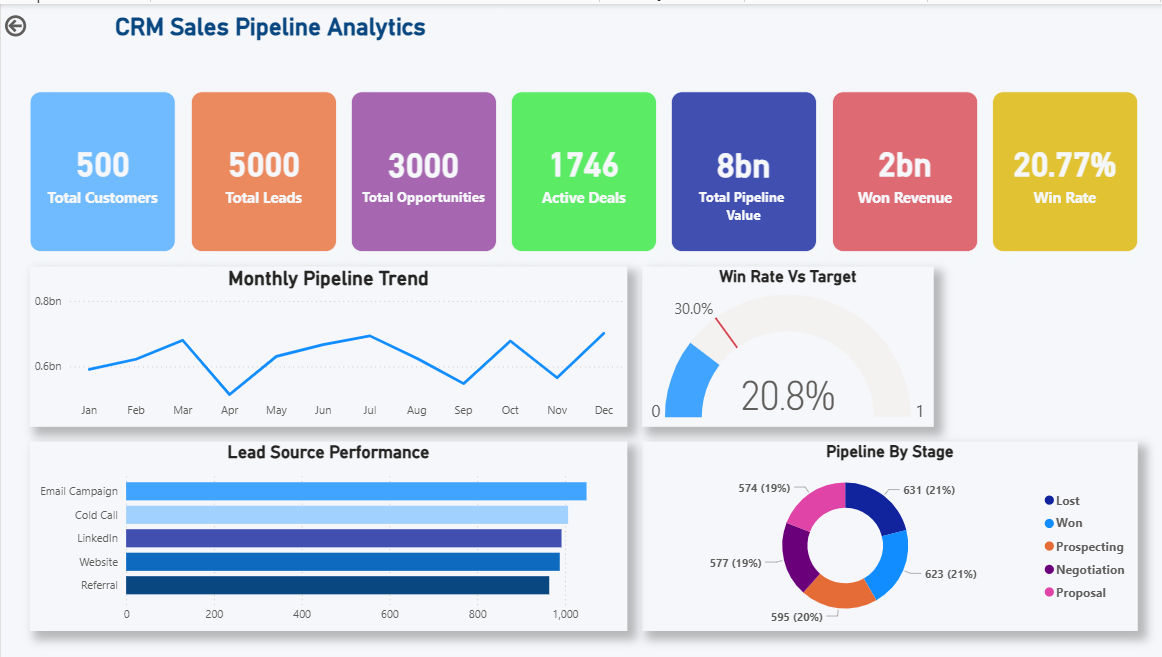

The dashboard page shown, as its layout file describes it:
{"tool":"powerbi","page":{"name":"Executive Overview","canvas":[1280,720],"ordinal":0},"visuals":[{"type":"card","fields":{"Values":["KPI_Table.Total Customers"]},"box":[32,96,160,176],"z":0},{"type":"card","fields":{"Values":["KPI_Table.Total Leads"]},"box":[208,96,160,176],"z":1000},{"type":"card","fields":{"Values":["KPI_Table.Total Opportunities"]},"box":[384,96,160,176],"z":2000},{"type":"card","fields":{"Values":["KPI_Table.Active Deals"]},"box":[560,96,160,176],"z":3000},{"type":"card","fields":{"Values":["KPI_Table.Total Pipeline Value"]},"box":[736,96,160,176],"z":4000},{"type":"card","fields":{"Values":["KPI_Table.Won Revenue"]},"box":[912,96,160,176],"z":5000},{"type":"card","fields":{"Values":["KPI_Table.Win Rate"]},"box":[1088,96,160,176],"z":6000},{"type":"lineChart","title":"Monthly Pipeline Trend","fields":{"Category":["opportunities.Month"],"Y":["Sum(opportunities.deal_value)"]},"box":[32,288,656,176],"z":7000},{"type":"gauge","title":"Win Rate Vs Target","fields":{"Y":["KPI_Table.Win Rate"],"MinValue":["KPI_Table.Minimum"],"MaxValue":["KPI_Table.Maximum"],"TargetValue":["KPI_Table.Target"]},"box":[704,288,320,176],"z":8000},{"type":"actionButton","box":[0,0,100,40],"z":9000},{"type":"donutChart","title":"Pipeline By Stage","fields":{"Category":["opportunities.stage"],"Y":["CountNonNull(opportunities.opportunity_id)"]},"box":[704,480,544,208],"z":10000},{"type":"clusteredBarChart","title":"Lead Source Performance","fields":{"Category":["leads.lead_source"],"Y":["CountNonNull(leads.lead_id)"]},"box":[32,480,656,208],"z":11000},{"type":"card","fields":{"Values":["KPI_Table.I"]},"box":[48,0,496,48],"z":12000}]}

Visuals, with their boxes on the page's 1280x720 design canvas (x1, y1, x2, y2). These are canvas units, not pixel positions in the 1162x657 screenshot, which may show the page scaled, cropped or inside an application window:
card - KPI_Table.Total Customers: [left=32, top=96, right=192, bottom=272]
card - KPI_Table.Total Leads: [left=208, top=96, right=368, bottom=272]
card - KPI_Table.Total Opportunities: [left=384, top=96, right=544, bottom=272]
card - KPI_Table.Active Deals: [left=560, top=96, right=720, bottom=272]
card - KPI_Table.Total Pipeline Value: [left=736, top=96, right=896, bottom=272]
card - KPI_Table.Won Revenue: [left=912, top=96, right=1072, bottom=272]
card - KPI_Table.Win Rate: [left=1088, top=96, right=1248, bottom=272]
"Monthly Pipeline Trend" lineChart: [left=32, top=288, right=688, bottom=464]
"Win Rate Vs Target" gauge: [left=704, top=288, right=1024, bottom=464]
actionButton: [left=0, top=0, right=100, bottom=40]
"Pipeline By Stage" donutChart: [left=704, top=480, right=1248, bottom=688]
"Lead Source Performance" clusteredBarChart: [left=32, top=480, right=688, bottom=688]
card - KPI_Table.I: [left=48, top=0, right=544, bottom=48]
